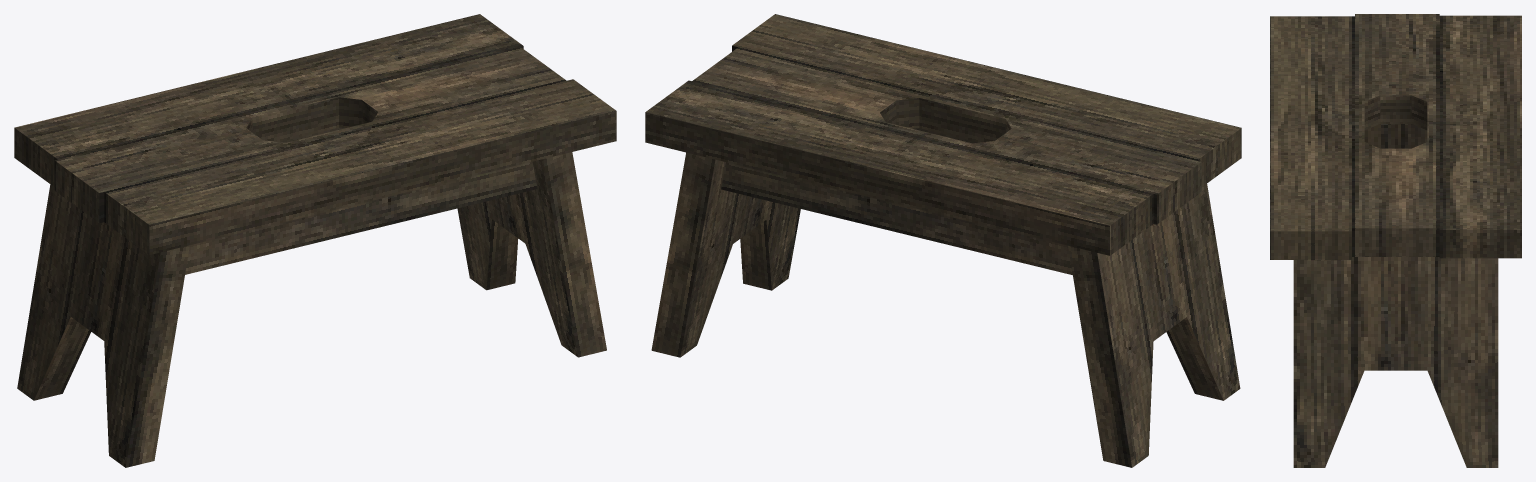
The model's file is stool_mx_1_1.glb.
3 views of the same model, side by side, from view 1: azimuth 30°, elevation 25°; view 2: azimuth 150°, elevation 25°; view 3: azimuth 270°, elevation 25° (orthographic). The views are drawn at different scales.
Parts seen in each view (by area): view 1: stool_mx_1_1; view 2: stool_mx_1_1; view 3: stool_mx_1_1.
Boxes of the visible parts, x1,y1,x2,y2 form: stool_mx_1_1: (14, 14, 616, 467); stool_mx_1_1: (645, 14, 1241, 467); stool_mx_1_1: (1270, 14, 1521, 467).
Size of the model in its own units: 0.6665 by 0.33 by 0.32.
Materials: 1 (1 with a texture image).
